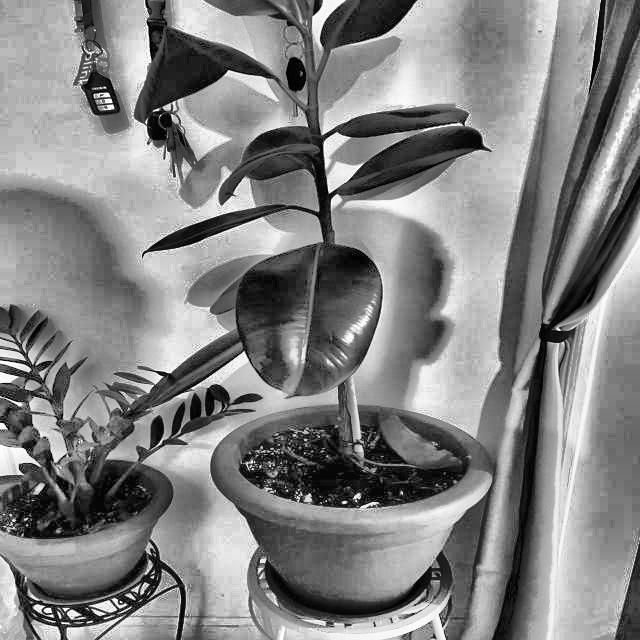plants: (194, 32, 433, 440), (8, 286, 221, 488)
